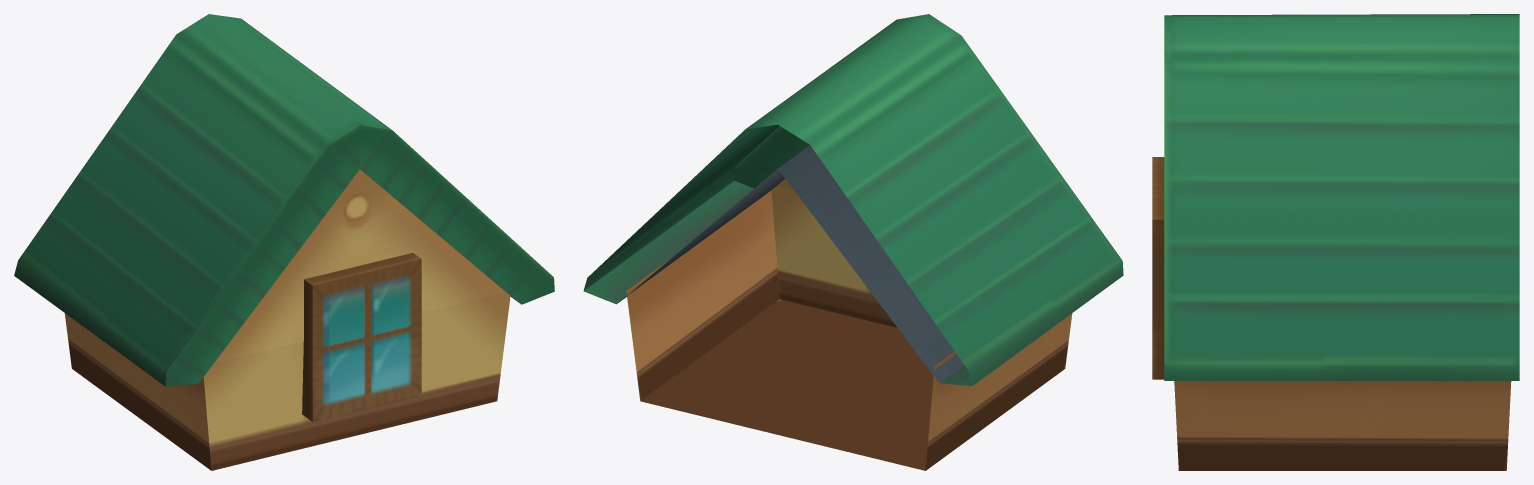
Rendered from mini_house_g.FBX.
3 renders of one model, left to right at view 1: azimuth 30°, elevation 25°; view 2: azimuth 150°, elevation 25°; view 3: azimuth 270°, elevation 25°, orthographic. The views are drawn at different scales.
Visible parts, largest first — view 1: Box077; view 2: Box077; view 3: Box077.
Boxes of the visible parts, x1,y1,x2,y2 form: Box077: [14, 14, 554, 470]; Box077: [583, 14, 1123, 470]; Box077: [1152, 14, 1519, 470].
Size of the model in its own units: 11.6 by 8.99 by 8.07.
